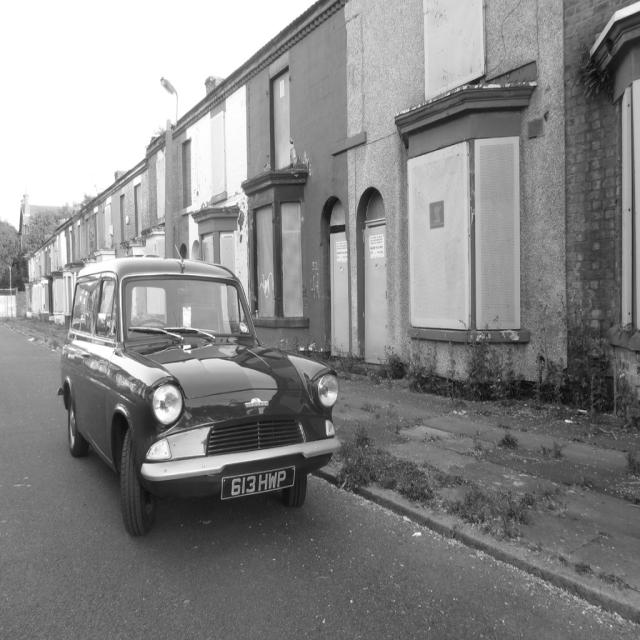car: (56, 243, 340, 537)
